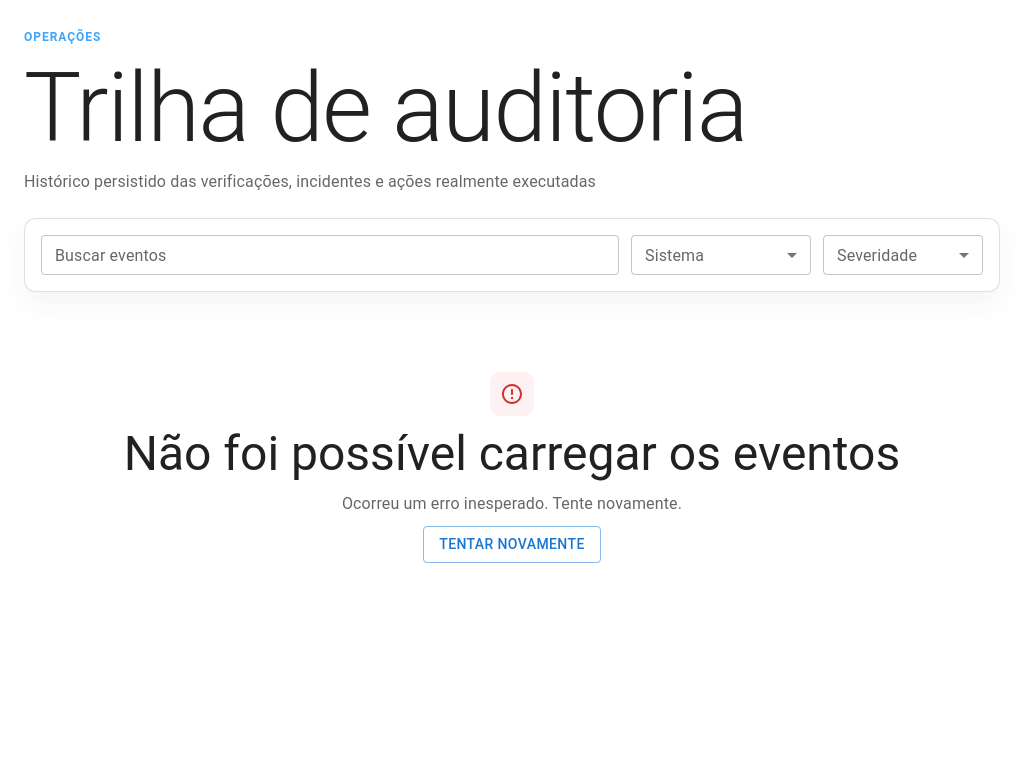
it: Eventos persistidos › encerra carregamento em falha e tenta novamente com a mesma consulta
Expected: the heading "Não foi possível carregar os eventos" is shown, x1=124 y1=426 x2=900 y2=482
Click the button "Tentar novamente": (512, 544) x1=423 y1=526 x2=601 y2=562
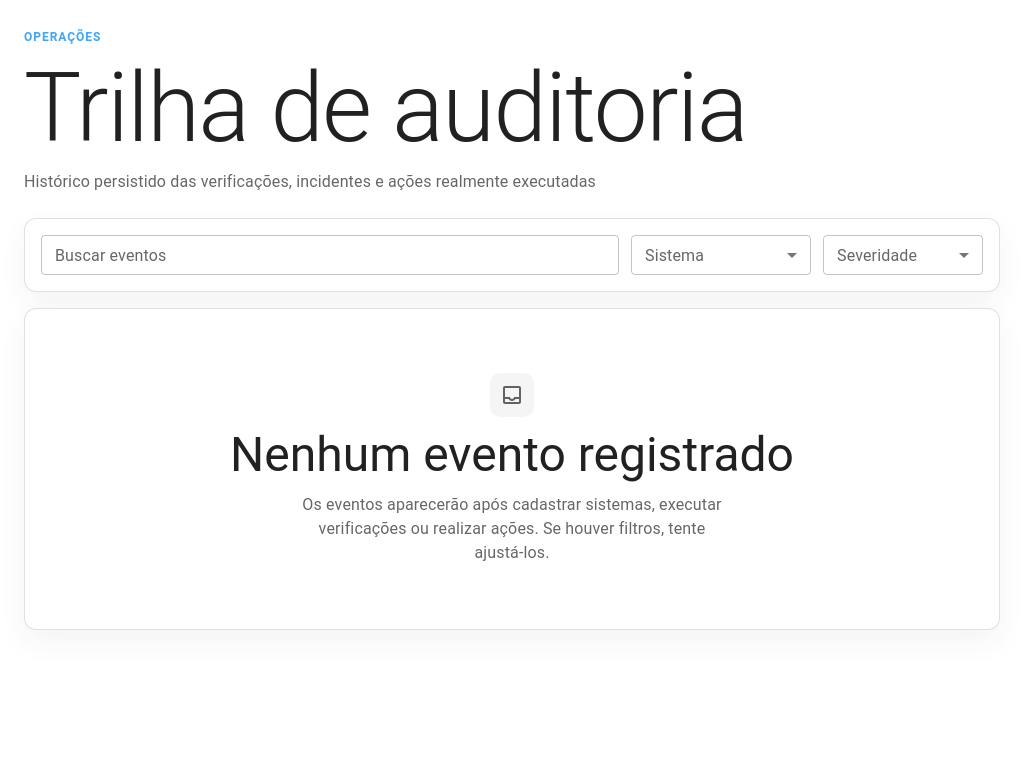
Result: the heading "Nenhum evento registrado" is shown at x1=230 y1=427 x2=794 y2=483
